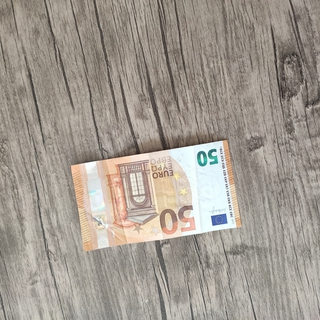50EUROFront: (69, 137, 243, 253)
